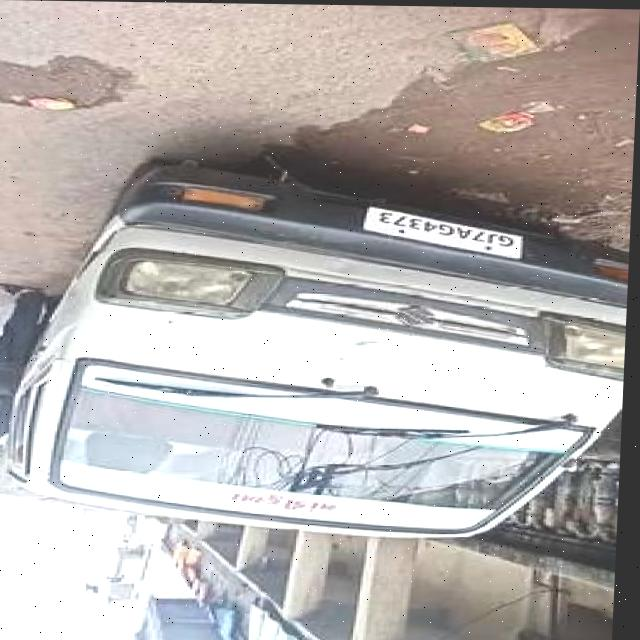plate: (363, 205, 529, 263)
